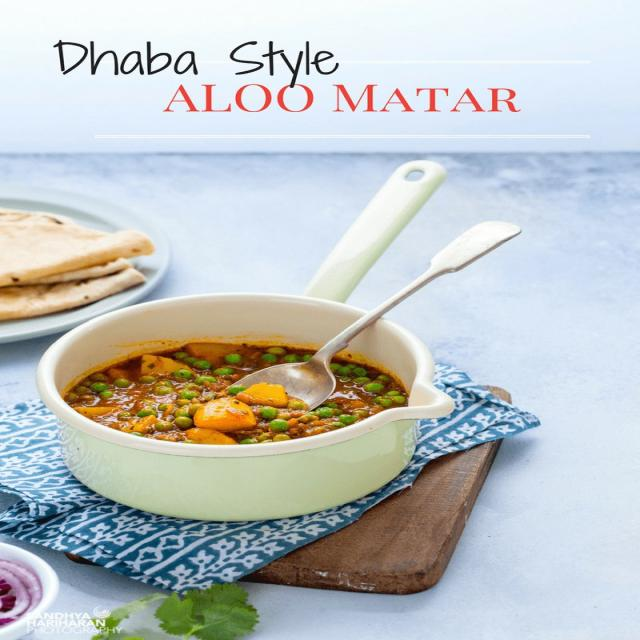aloo_gobi: (50, 312, 462, 479)
chapati: (0, 211, 154, 285)
